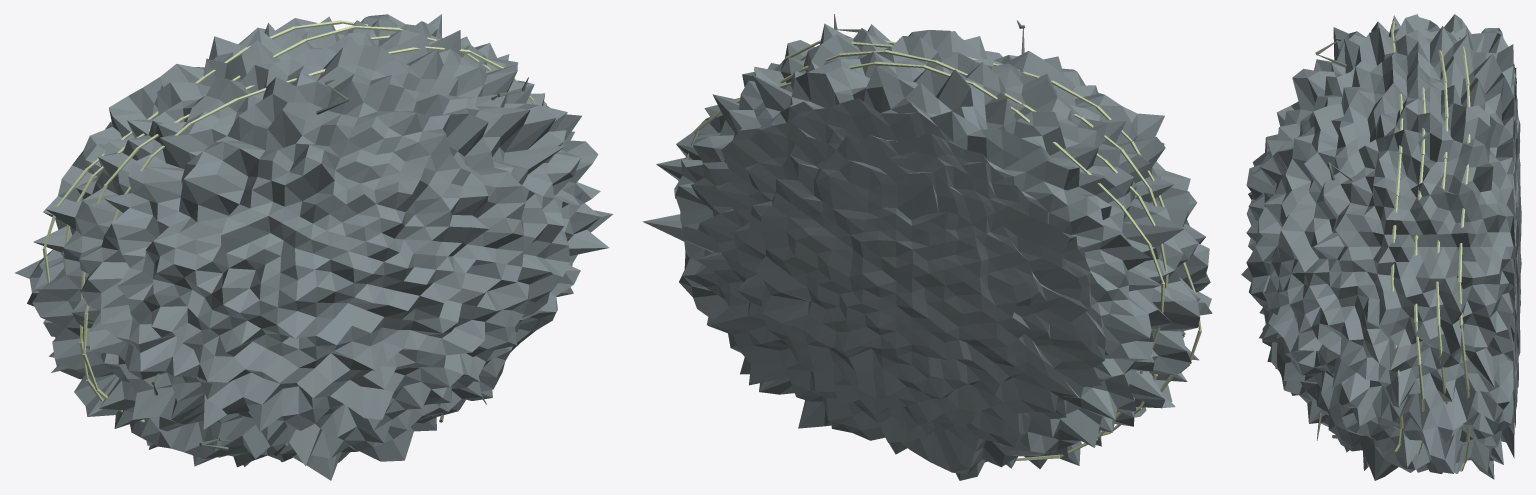
File: Aquarion_Tidepool_Basalt.glb
3 renders of one model, left to right at view 1: azimuth 30°, elevation 25°; view 2: azimuth 150°, elevation 25°; view 3: azimuth 270°, elevation 25°, orthographic. The views are drawn at different scales.
Parts seen in each view (by area): view 1: Aquarion_Tidepool_Basalt_mass; view 2: Aquarion_Tidepool_Basalt_mass; view 3: Aquarion_Tidepool_Basalt_mass.
Boxes of the visible parts, x1,y1,x2,y2 form: Aquarion_Tidepool_Basalt_mass: [15, 14, 613, 480]; Aquarion_Tidepool_Basalt_mass: [642, 23, 1212, 480]; Aquarion_Tidepool_Basalt_mass: [1241, 14, 1521, 480].
Bounding box in the file's own units: 3.19 × 2.28 × 1.46.
